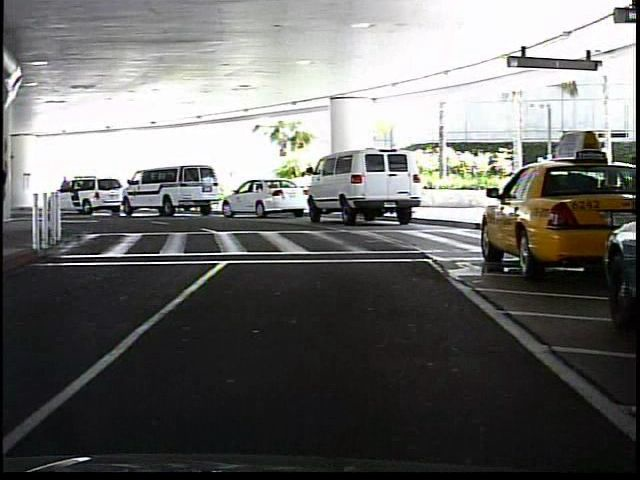person: (58, 173, 75, 212), (5, 150, 6, 232)
